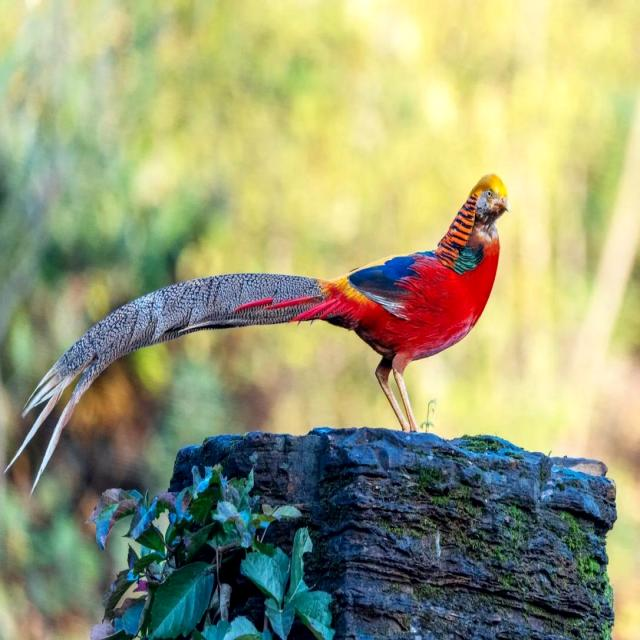Chrysolophus pictus feather: (4, 274, 328, 497)
